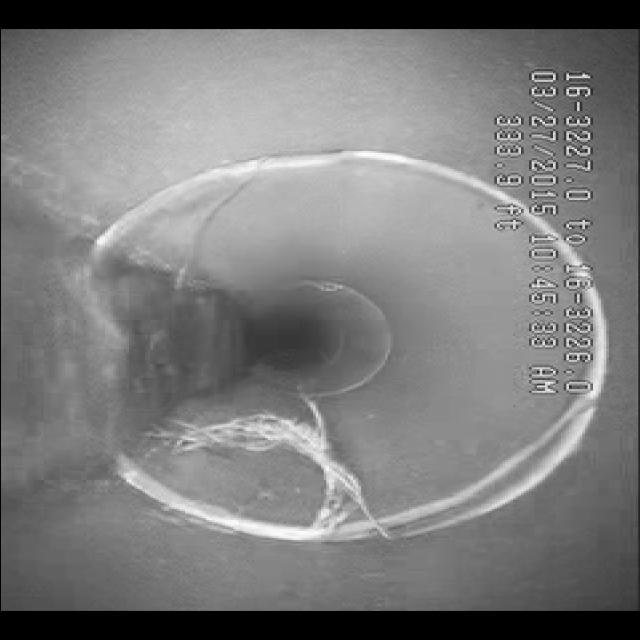Crack: (165, 144, 294, 277)
